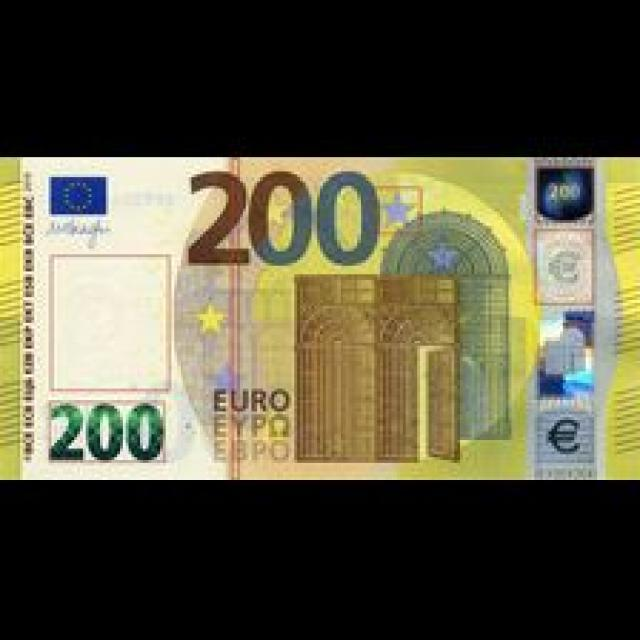banknote: (0, 154, 637, 480), (185, 164, 382, 271), (48, 400, 168, 463)
